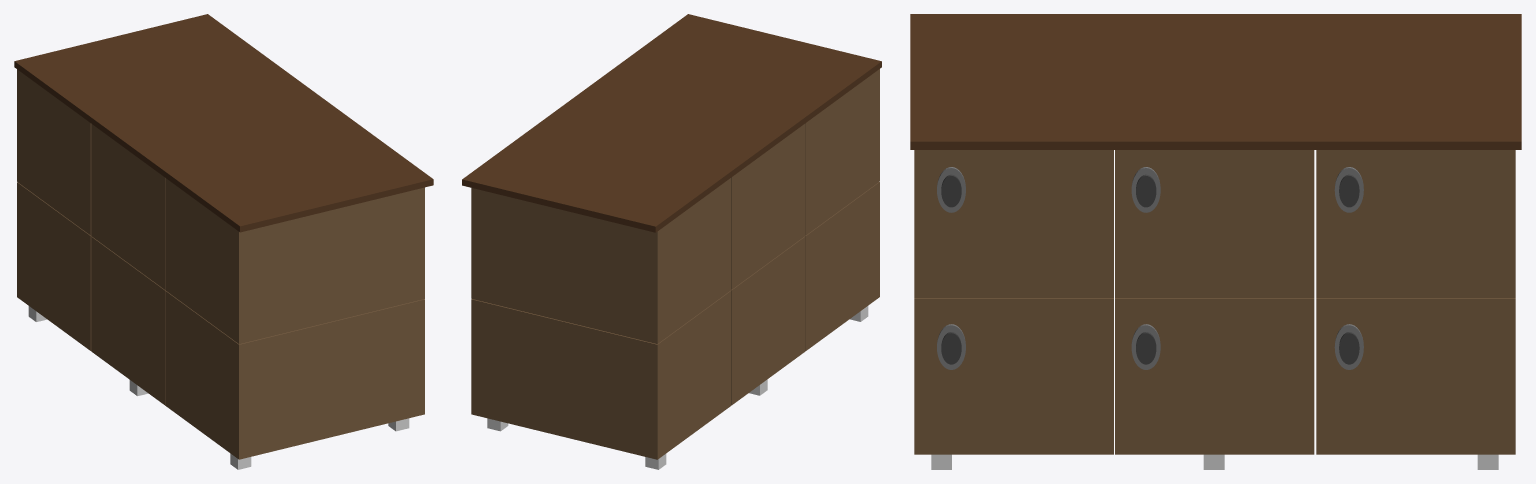
The model's file is locker.fbx.
3 renders of one model, left to right at view 1: azimuth 30°, elevation 25°; view 2: azimuth 150°, elevation 25°; view 3: azimuth 270°, elevation 25°, orthographic. The views are drawn at different scales.
Parts seen in each view (by area): view 1: Cube.012, Cube.006, Cube.011, Cube.008, Cube.007, Cube.009, Cube.010; view 2: Cube.012, Cube.008, Cube.009, Cube.007, Cube.006, Cube.011, Cube.010; view 3: Cube.012, Cube.007, Cube.006, Cube.008, Cube.010, Cube.009, Cube.011.
Boxes of the visible parts, box(x1,y1,x2,y2) form: Cube.012: box(14, 14, 433, 232); Cube.006: box(165, 291, 424, 459); Cube.011: box(165, 178, 424, 344); Cube.008: box(17, 182, 91, 350); Cube.007: box(91, 236, 165, 405); Cube.009: box(17, 69, 91, 235); Cube.010: box(91, 124, 165, 289); Cube.012: box(462, 14, 881, 232); Cube.008: box(471, 290, 731, 459); Cube.009: box(471, 178, 731, 343); Cube.007: box(731, 236, 805, 405); Cube.006: box(805, 182, 879, 350); Cube.011: box(805, 69, 879, 234); Cube.010: box(731, 123, 805, 289); Cube.012: box(910, 14, 1521, 149); Cube.007: box(1115, 298, 1314, 454); Cube.006: box(914, 298, 1113, 454); Cube.008: box(1316, 298, 1515, 454); Cube.010: box(1115, 150, 1314, 298); Cube.009: box(1316, 150, 1515, 298); Cube.011: box(914, 150, 1113, 298).
Bounding box in the file's own units: 805 × 997 × 1628.
